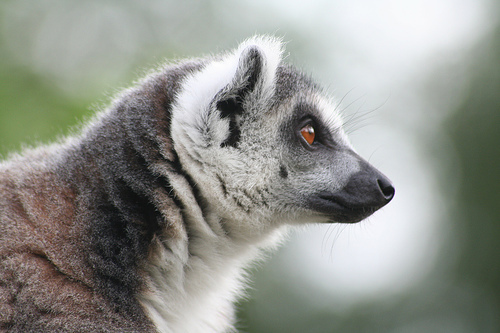cat: (0, 31, 396, 331)
